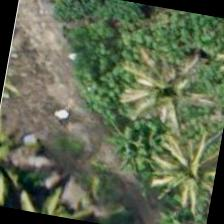Kelapa_Sawit: (105, 42, 209, 146), (137, 121, 221, 223)
